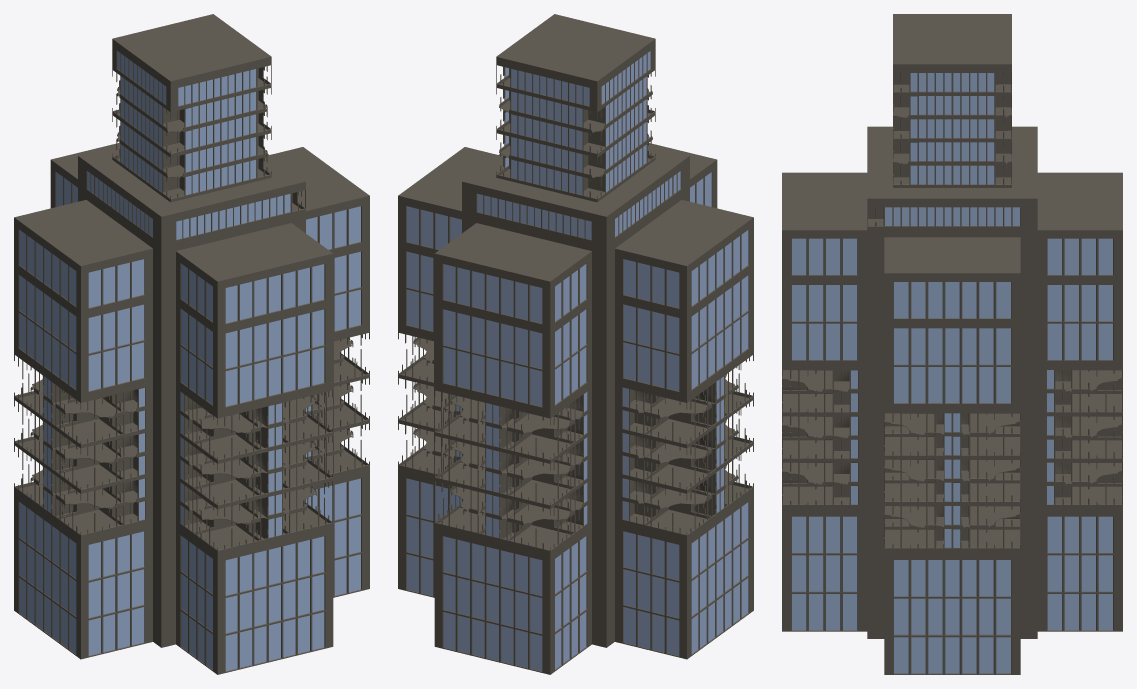
The model's file is Imeuble6.fbx.
The picture shows the model from 3 angles, left to right: view 1: azimuth 30°, elevation 25°; view 2: azimuth 150°, elevation 25°; view 3: azimuth 270°, elevation 25°; orthographic projection. The views are drawn at different scales.
Parts seen in each view (by area): view 1: group76; view 2: group76; view 3: group76.
Boxes of the visible parts, x1,y1,x2,y2 form: group76: [14, 14, 369, 674]; group76: [398, 14, 753, 674]; group76: [782, 14, 1122, 674].
Bounding box in the file's own units: 4 × 7.3 × 4.
